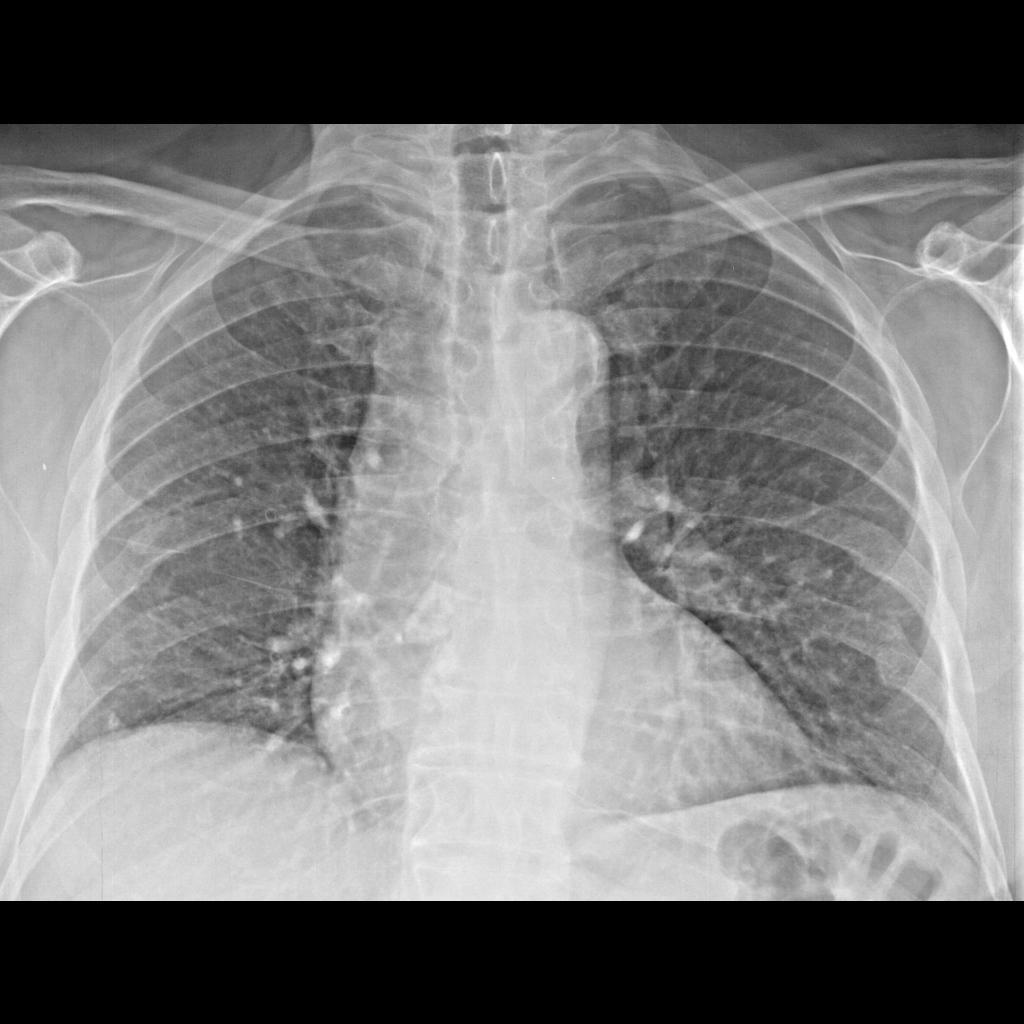Nodule: (788, 557, 833, 602)
